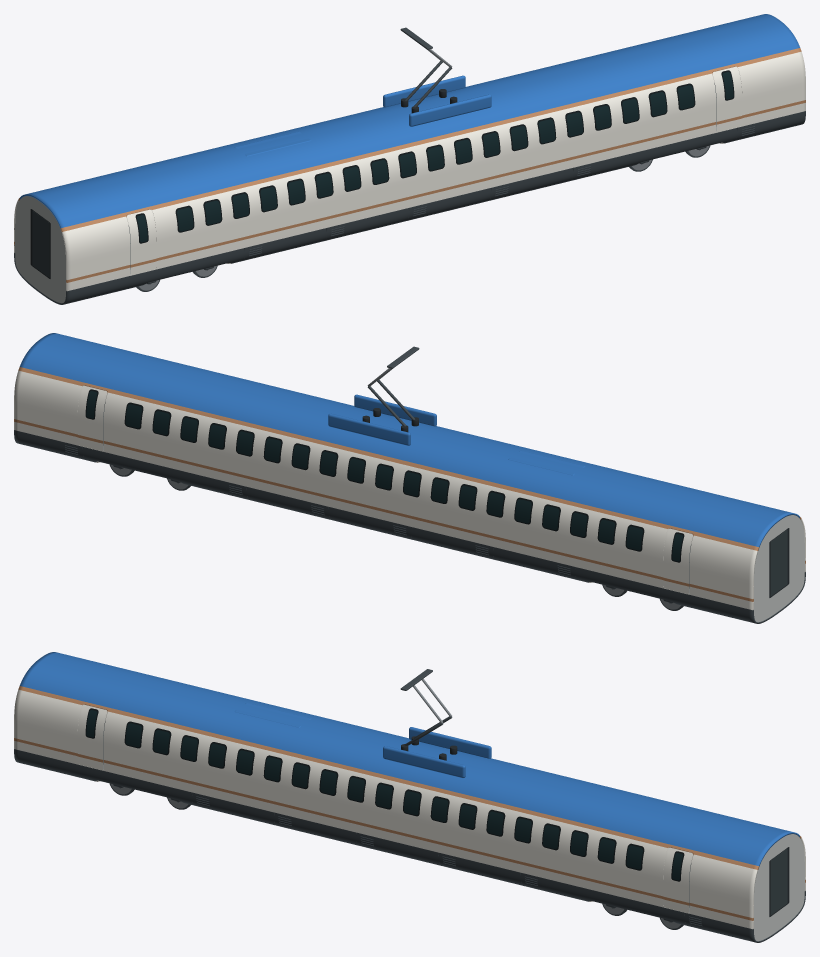
File: express-short-middlePantograph.glb
3 views of the same model, one above another, from view 1: azimuth 30°, elevation 25°; view 2: azimuth 150°, elevation 25°; view 3: azimuth 330°, elevation 25° (orthographic).
Parts seen in each view (by area): view 1: body, door_right_front, door_right_rear; view 2: body, door_left_front, door_left_rear; view 3: body, door_right_rear, door_right_front.
Part boxes in pixels (bbox=[...]): body: bbox=[14, 14, 805, 304]; door_right_front: bbox=[712, 66, 742, 132]; door_right_rear: bbox=[127, 209, 156, 275]; body: bbox=[14, 333, 805, 623]; door_left_front: bbox=[77, 385, 107, 451]; door_left_rear: bbox=[663, 528, 692, 594]; body: bbox=[14, 652, 805, 942]; door_right_rear: bbox=[77, 704, 107, 770]; door_right_front: bbox=[663, 847, 692, 913].
Bounding box in the file's own units: 27 × 6.12 × 3.41.
